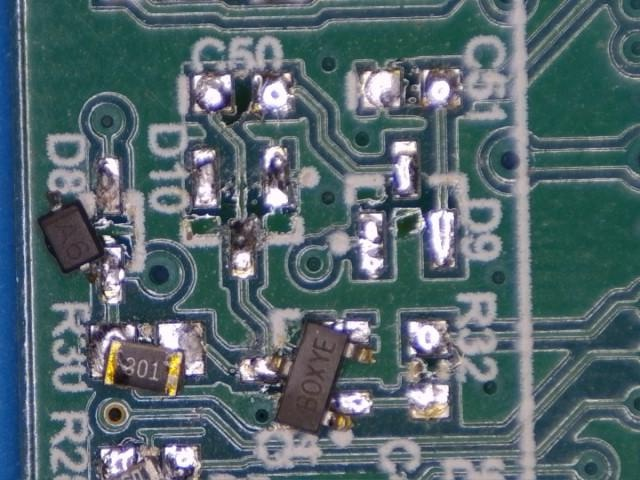pcb_defect: (239, 319, 375, 435), (36, 190, 124, 304), (88, 323, 207, 398), (99, 444, 200, 480)
